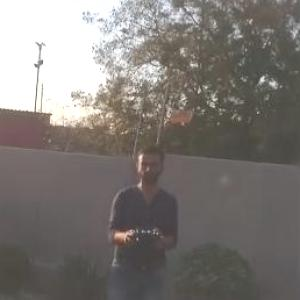follow: (100, 135, 184, 299)
